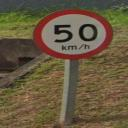speed_limit_50: (32, 8, 114, 60)
